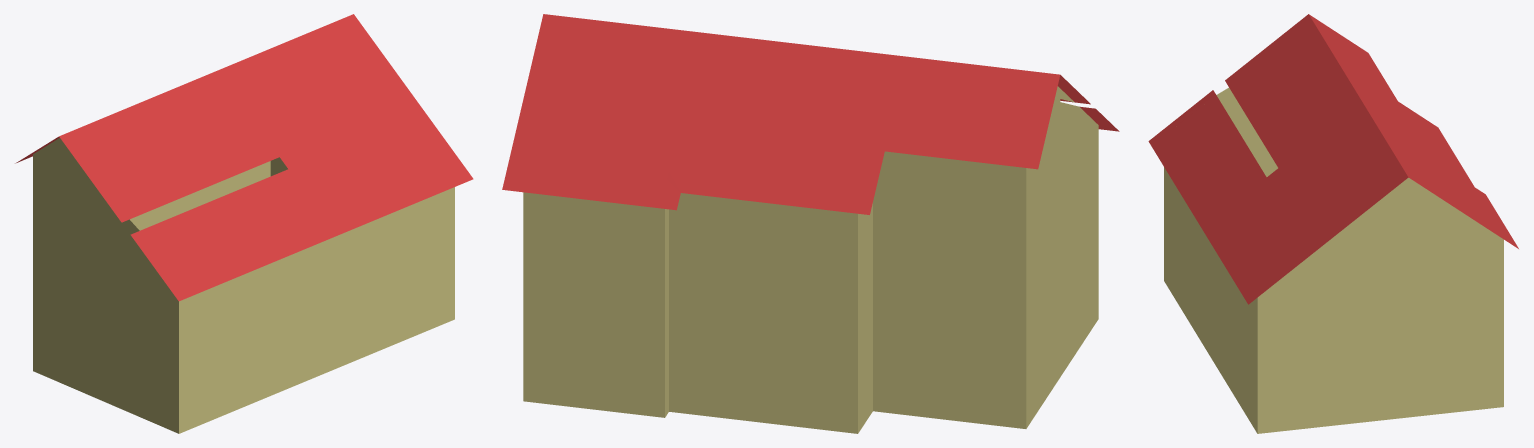
The picture shows the model from 3 angles, left to right: view 1: azimuth 30°, elevation 25°; view 2: azimuth 150°, elevation 25°; view 3: azimuth 270°, elevation 25°; orthographic projection. The views are drawn at different scales.
Bounding box in the file's own units: 17.42 × 14.57 × 10.63.
